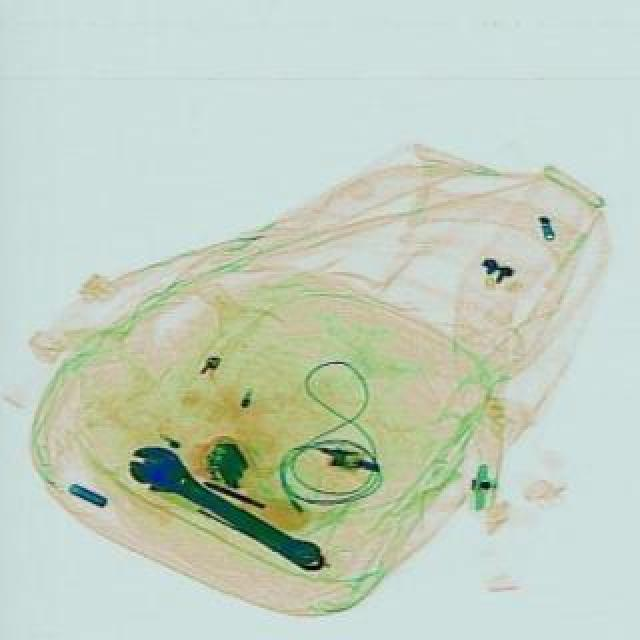scissors: (116, 434, 334, 582)
